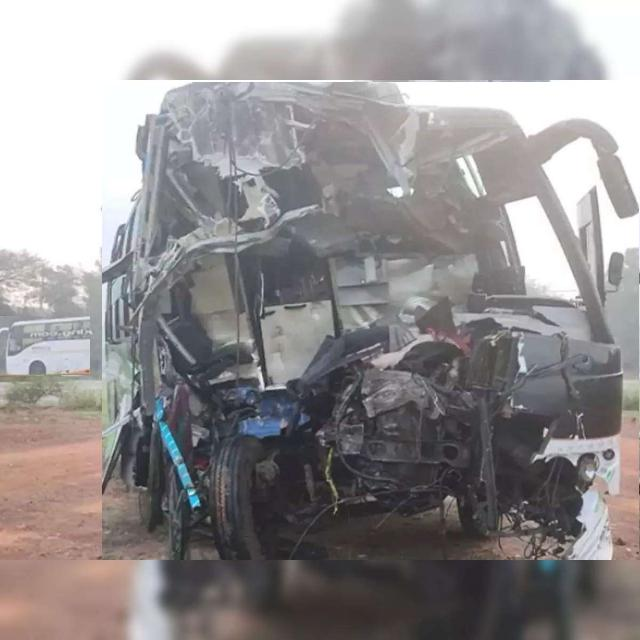accident: (102, 83, 640, 560)
bus: (0, 317, 90, 375)
